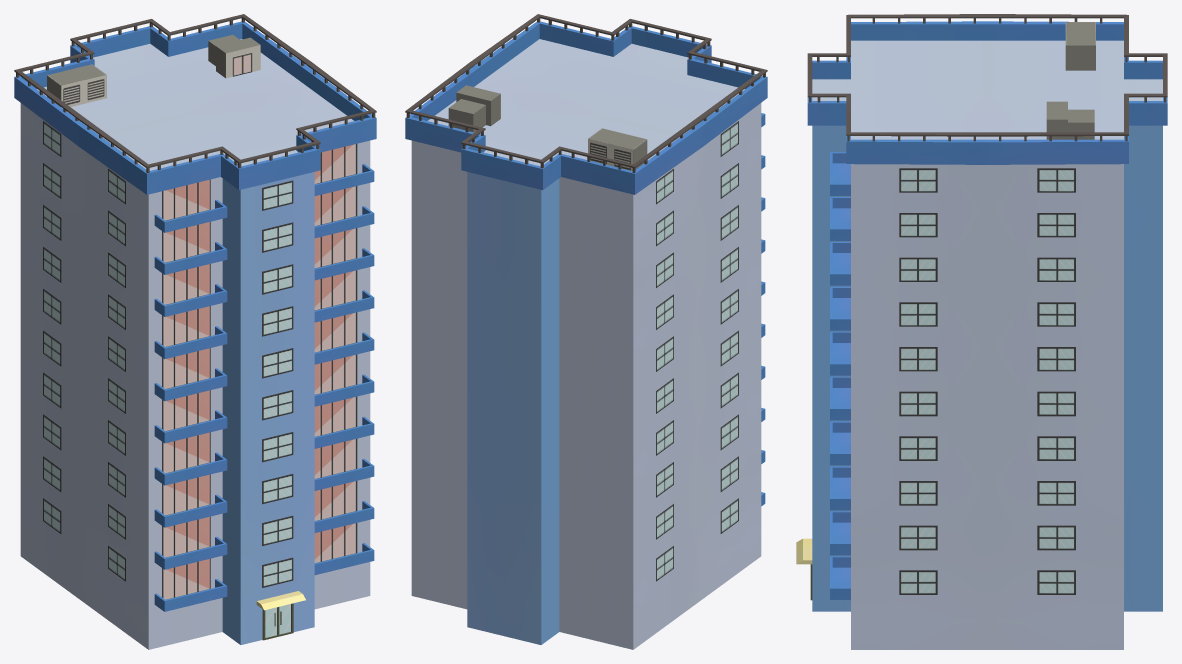
Rendered from house-2.fbx.
The picture shows the model from 3 angles, left to right: view 1: azimuth 30°, elevation 25°; view 2: azimuth 150°, elevation 25°; view 3: azimuth 270°, elevation 25°; orthographic projection. The views are drawn at different scales.
Visible parts, largest first — view 1: house2; view 2: house2; view 3: house2.
Boxes of the visible parts, x1,y1,x2,y2 form: house2: (14,14,376,649); house2: (405,14,767,649); house2: (796,14,1167,649).
Bounding box in the file's own units: 1313 × 2632 × 1701.
